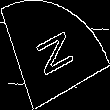N_SW: (31, 27, 79, 83)
